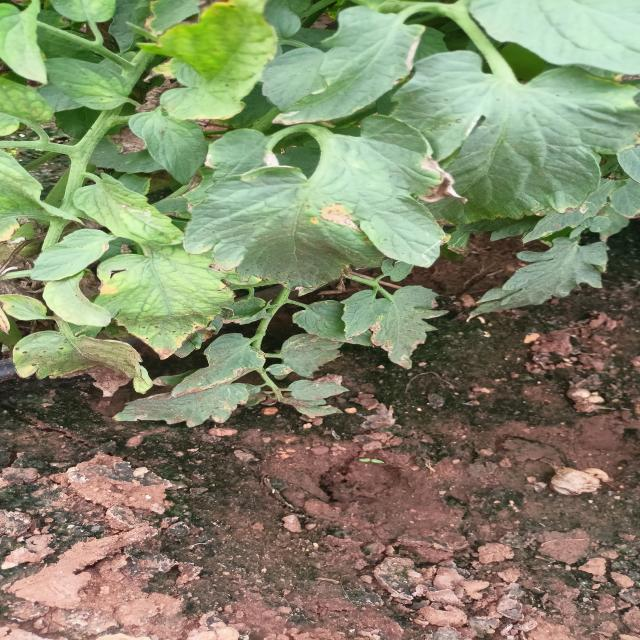Tomato mosaic virus leaf: (7, 327, 156, 402), (104, 278, 235, 361)
